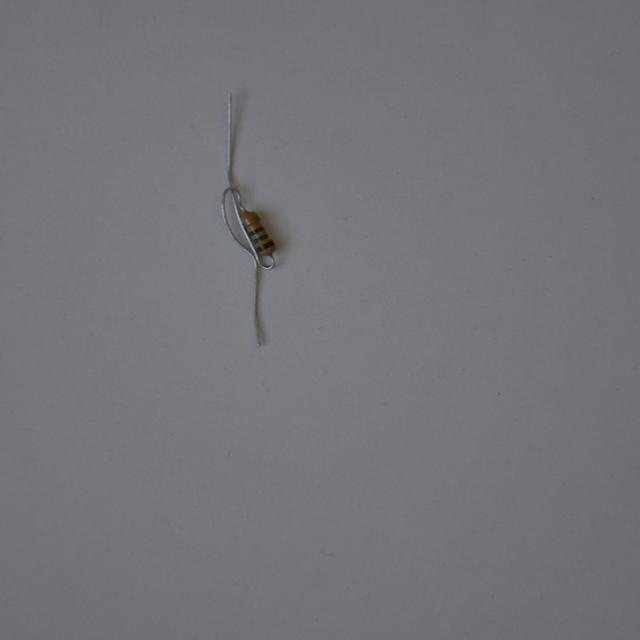brown: (249, 226, 264, 236), (258, 241, 272, 251)
gold: (243, 216, 260, 225)
green: (253, 232, 266, 242)
resistor: (233, 205, 284, 261)
